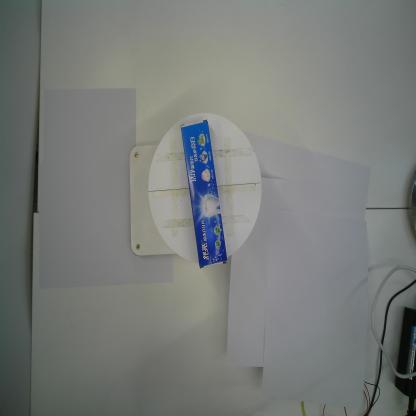Personal Hygiene: (180, 117, 230, 271)
